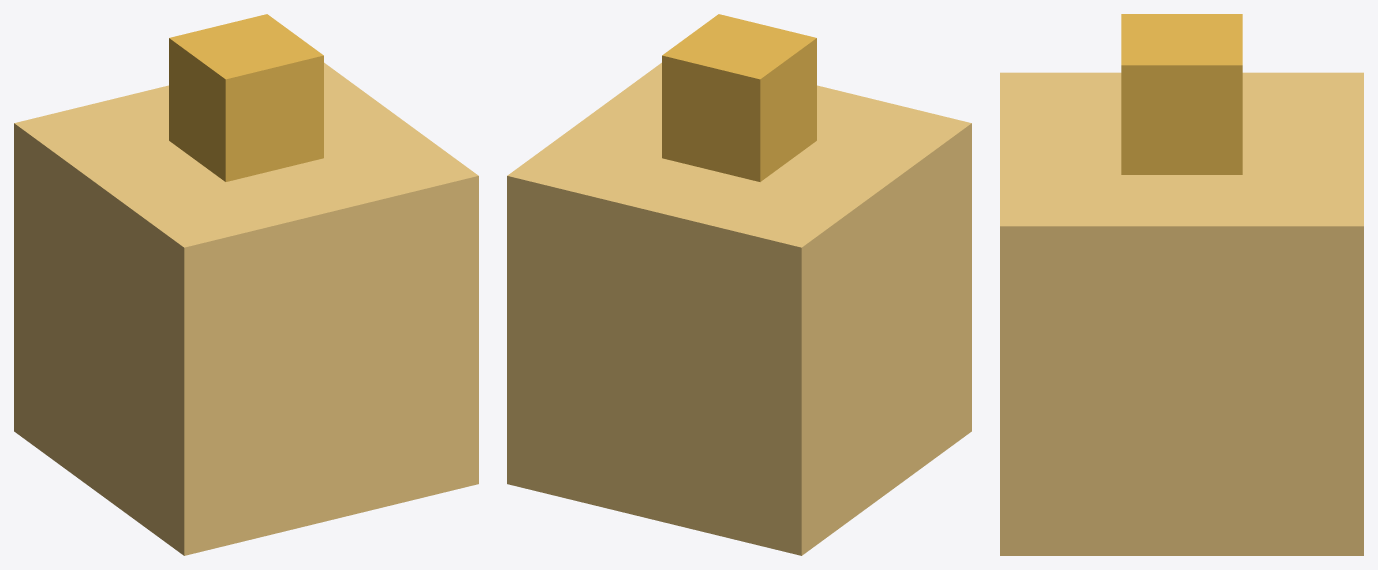
The model's file is Stenka1-15.obj.
3 renders of one model, left to right at view 1: azimuth 30°, elevation 25°; view 2: azimuth 150°, elevation 25°; view 3: azimuth 270°, elevation 25°, orthographic. The views are drawn at different scales.
Bounding box in the file's own units: 0.3 × 0.4 × 0.3.
1 material, 1 textured.
